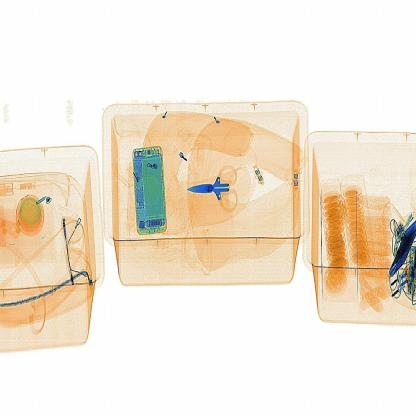gun: (186, 157, 241, 216)
